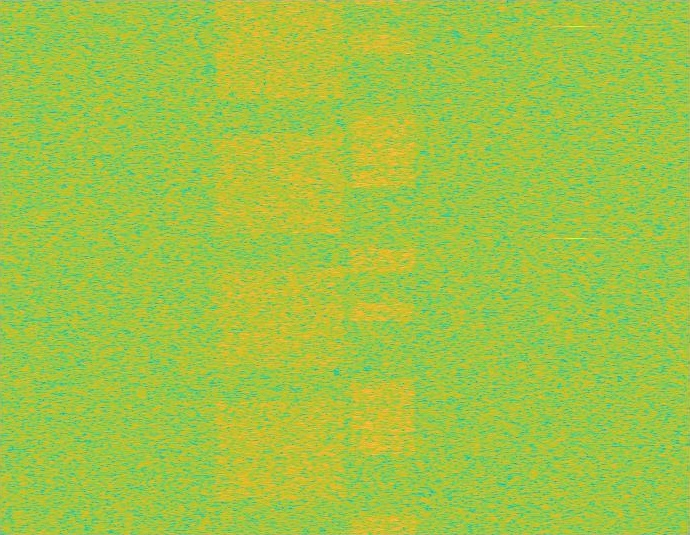5G: (211, 0, 349, 534)
LTE: (349, 0, 418, 534)
Radar: (569, 0, 583, 534)
